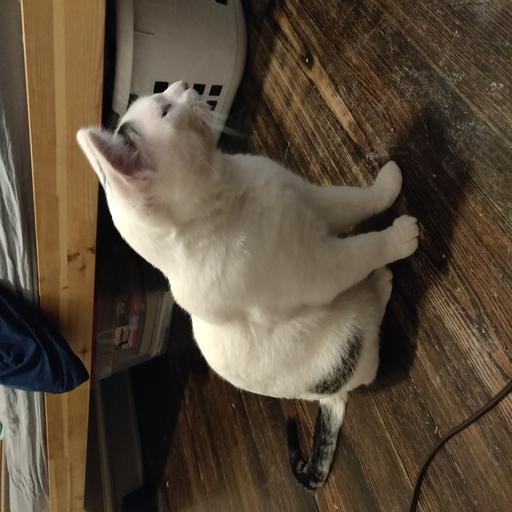cat: (85, 82, 396, 393)
